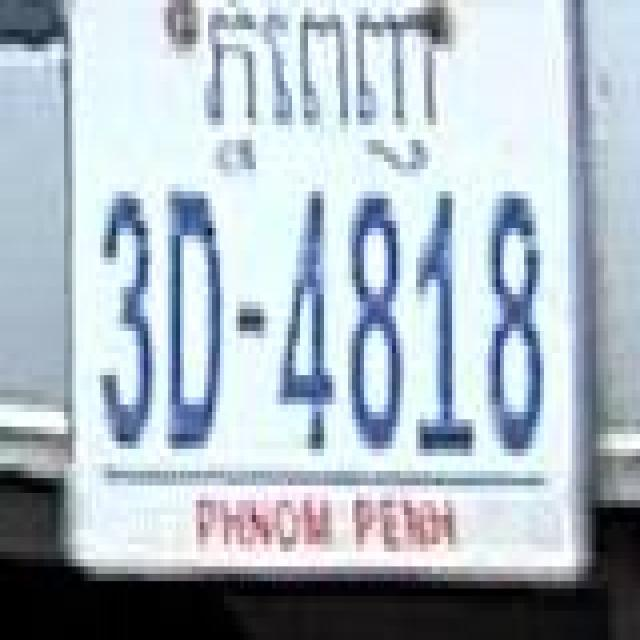Phnom_Penh: (200, 7, 443, 176)
